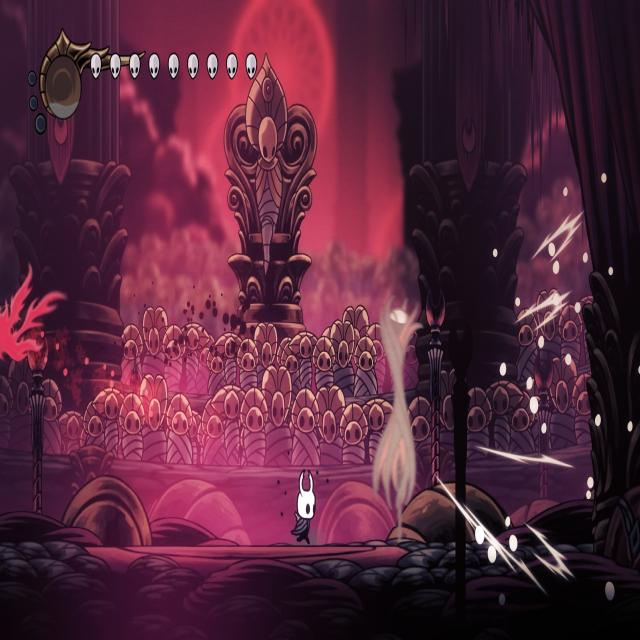Fire Bat: (0, 259, 64, 366)
Grimm: (369, 303, 416, 546)
Player: (291, 466, 318, 550)
